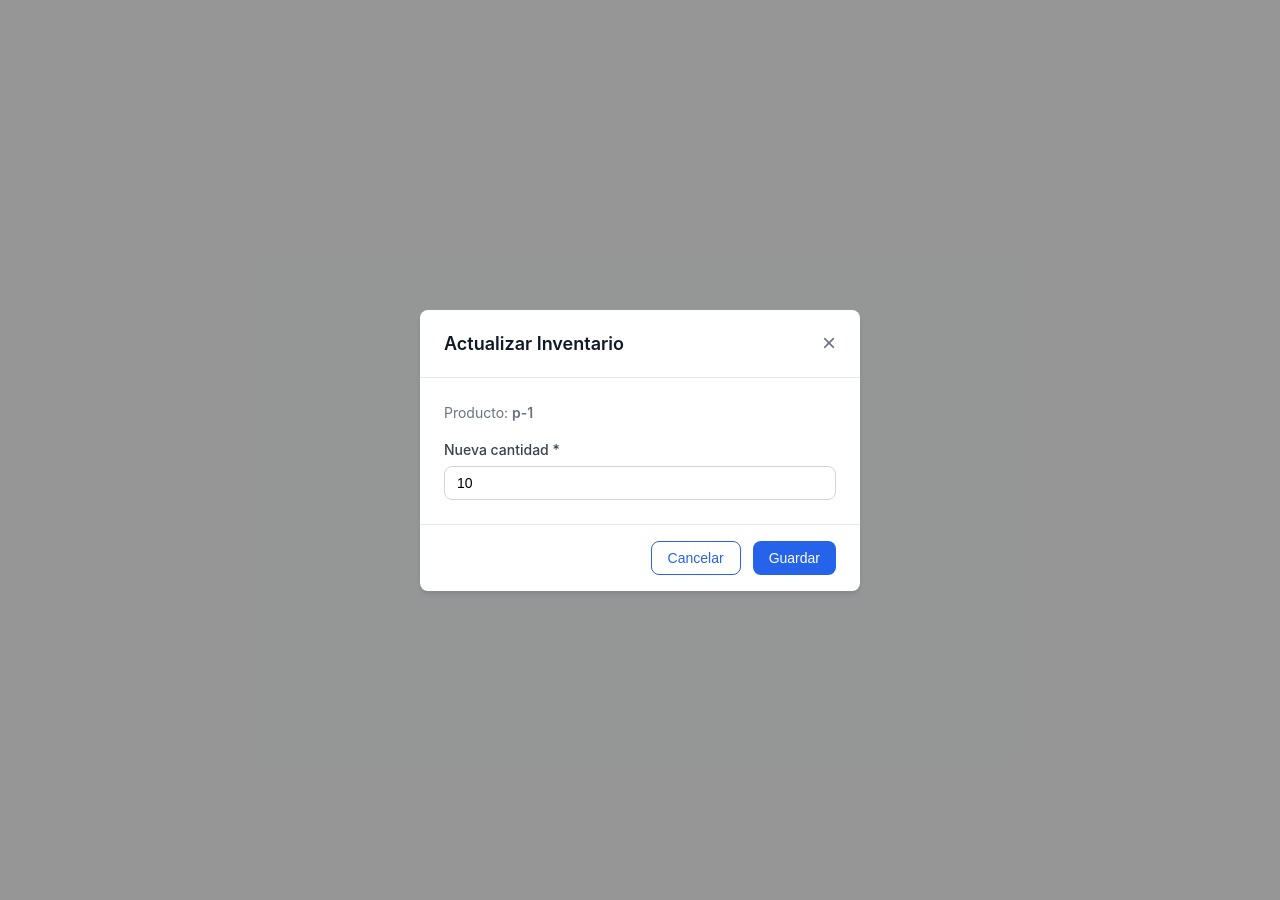
it: UpdateInventoryModal › muestra error si se intenta guardar con cantidad negativa
The width and height of the screenshot is (1280, 900).
Replace the text in the number field with id "cantidad" with "-5" at (640, 482), box [444,466,836,500]
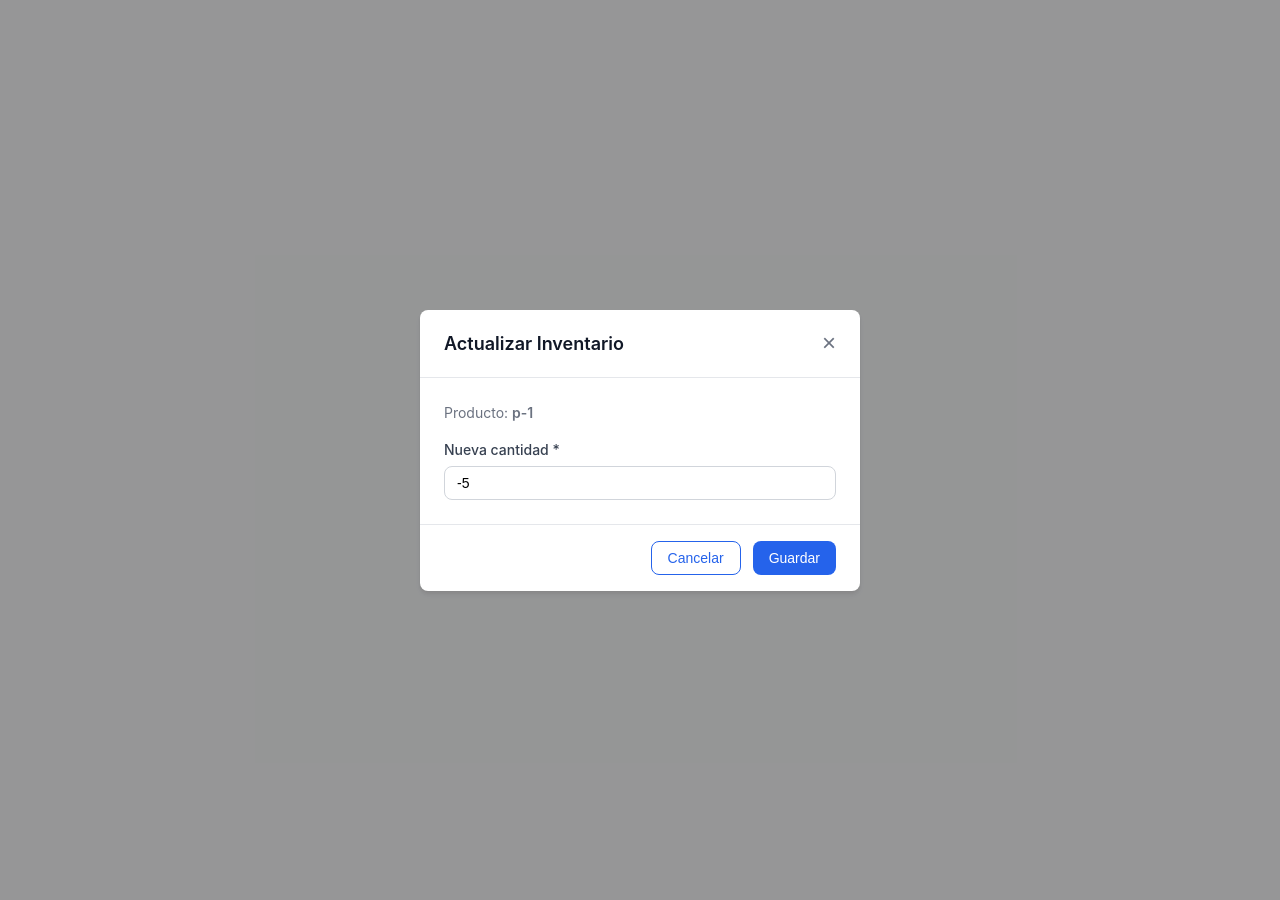
Click the button "Guardar" at (794, 558), box [753,540,836,574]
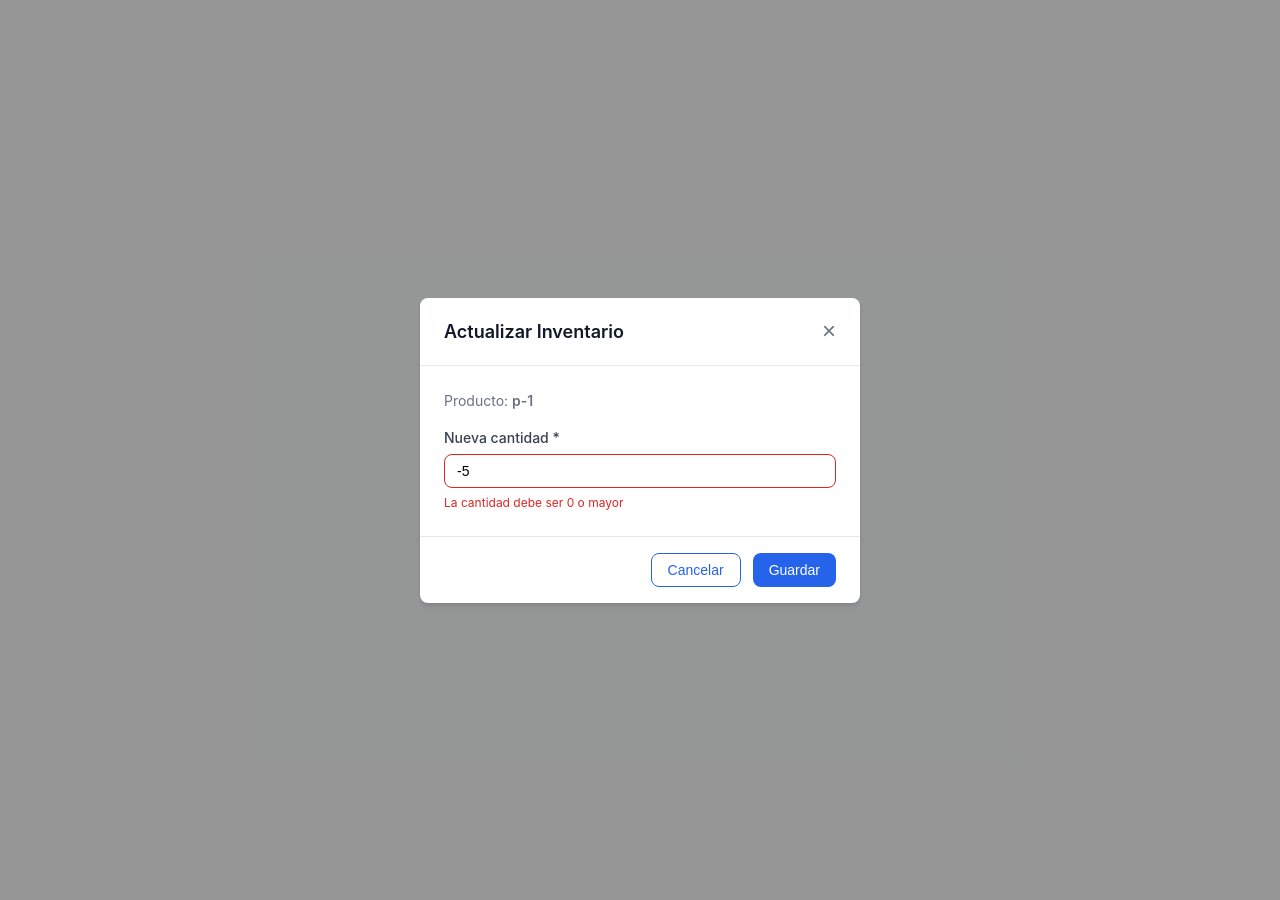
Expected: the text "0 o mayor" is shown, [444,494,623,510]
